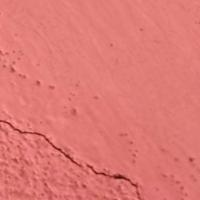crack: (1, 108, 151, 199)
